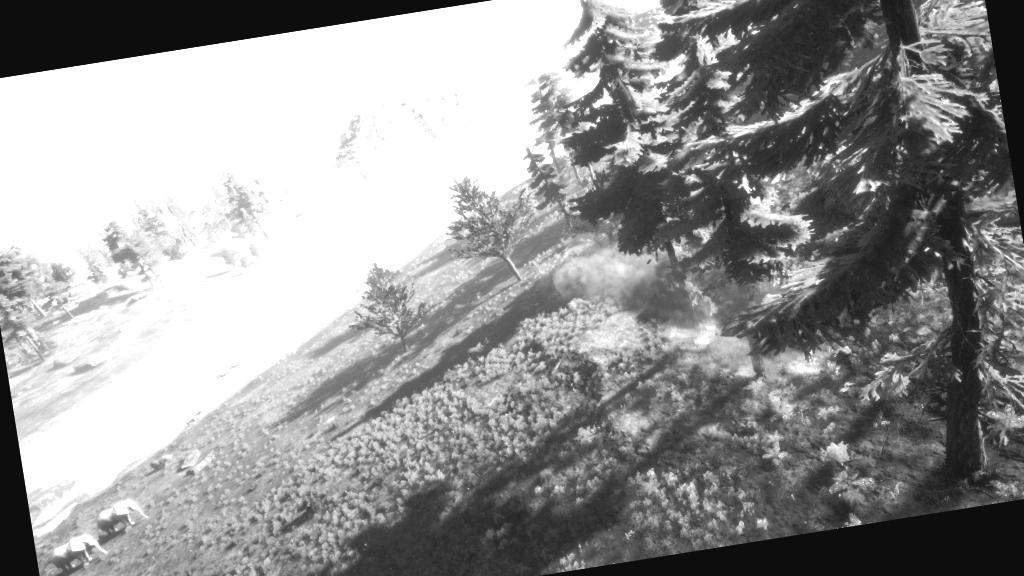Fire: (729, 334, 839, 389), (659, 312, 722, 359), (24, 472, 76, 520)
elephant: (43, 530, 113, 575), (90, 495, 152, 538)
hippopotamus: (147, 452, 176, 473)
human: (104, 437, 118, 452), (128, 432, 138, 448), (106, 450, 116, 464)
lion: (183, 415, 199, 429), (191, 406, 206, 420)
rhinoceros: (226, 356, 246, 372), (214, 366, 234, 380)
smoke: (552, 232, 708, 342)
zebra: (282, 346, 296, 360), (274, 353, 288, 367)
